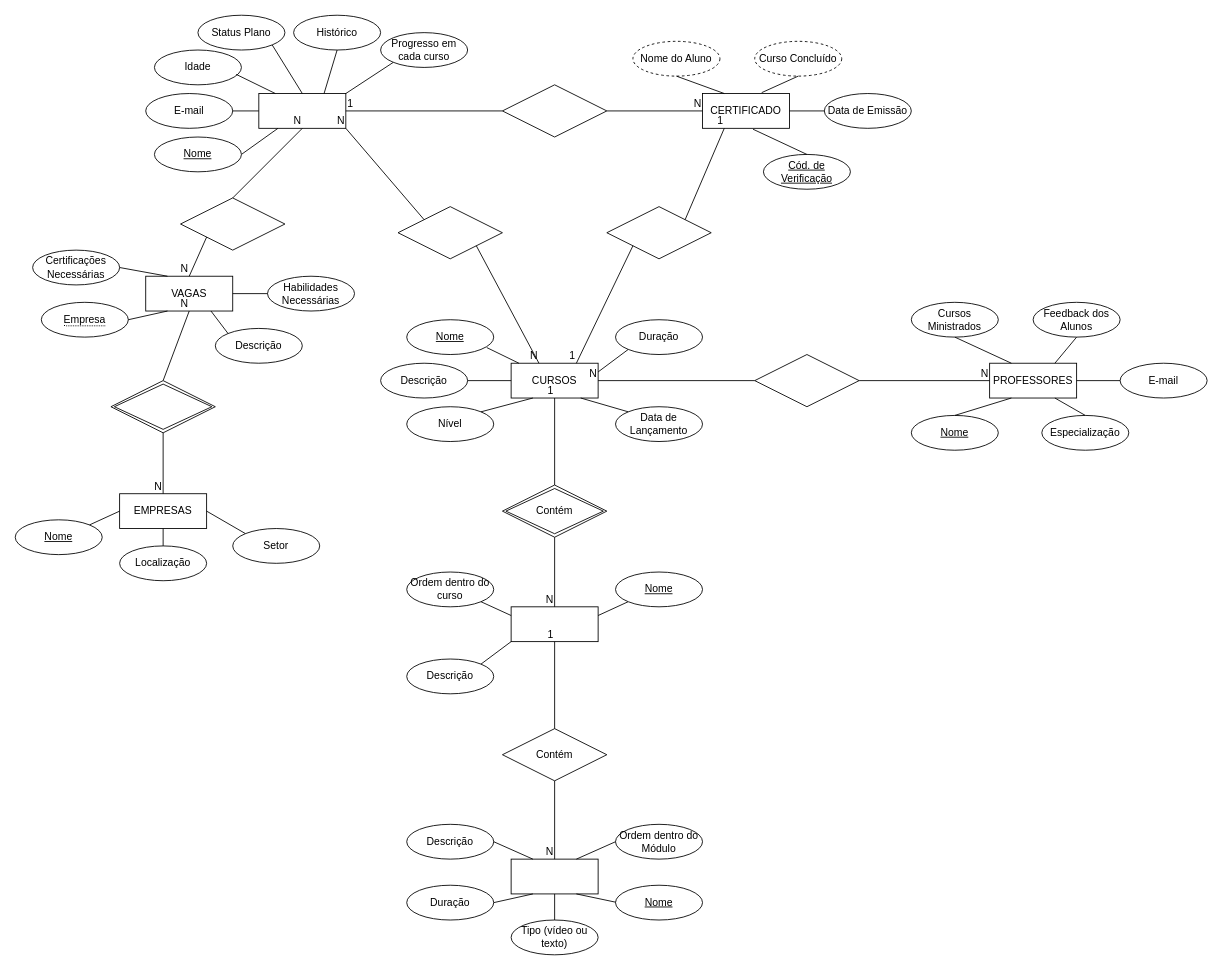
The diagram is 1222 pixels wide and 970 high, and some of its shapes have lost their labels. The shapes that lost their labels are listed below. From the top down, each one's centre as x and y in pixels, then its label:
At (302,110): "ALUNOS".
At (554,110): "Recebem".
At (232,223): "SE QUALIFICAM".
At (449,232): "Estudam".
At (658,232): "Geram".
At (806,380): "Ministram".
At (162,406): "Oferecem".
At (554,624): "MÓDULOS".
At (554,876): "AULAS".
